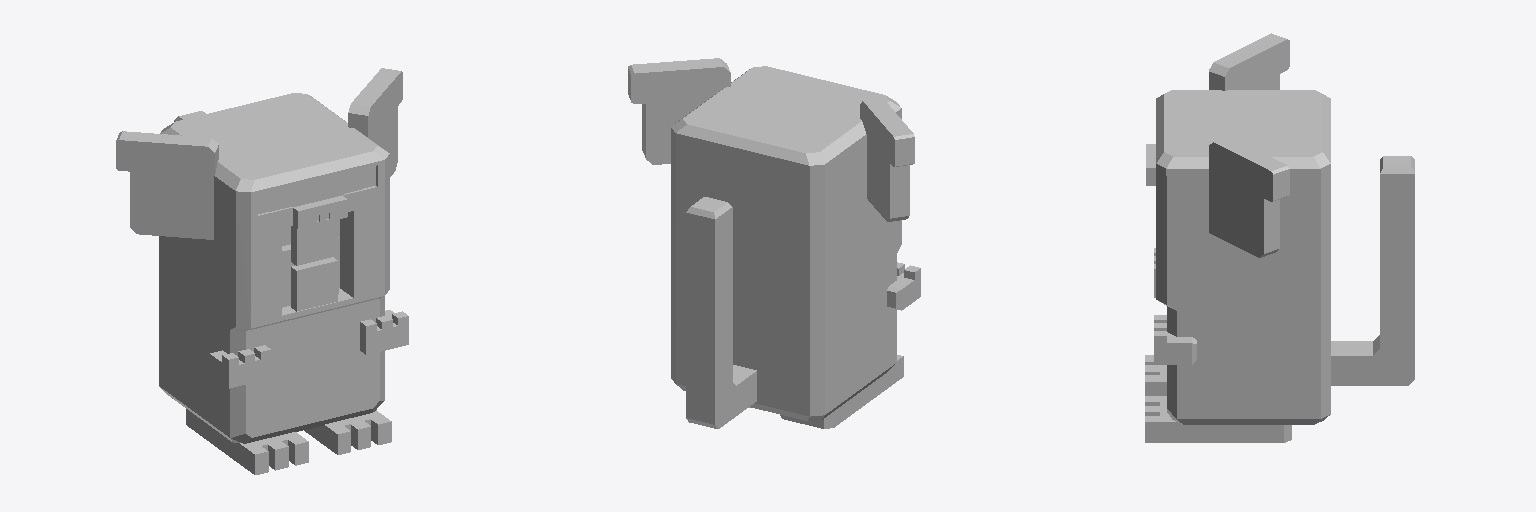
File: 020 - Raticate.obj
3 views of the same model, side by side, from view 1: azimuth 30°, elevation 25°; view 2: azimuth 150°, elevation 25°; view 3: azimuth 270°, elevation 25° (orthographic).
Parts seen in each view (by area): view 1: 020 - Raticate; view 2: 020 - Raticate; view 3: 020 - Raticate.
Boxes of the visible parts, box(x1,y1,x2,y2) form: 020 - Raticate: box(116, 68, 408, 474); 020 - Raticate: box(628, 58, 920, 428); 020 - Raticate: box(1145, 33, 1414, 442).
Bounding box in the file's own units: 2.47 × 2.53 × 2.01.